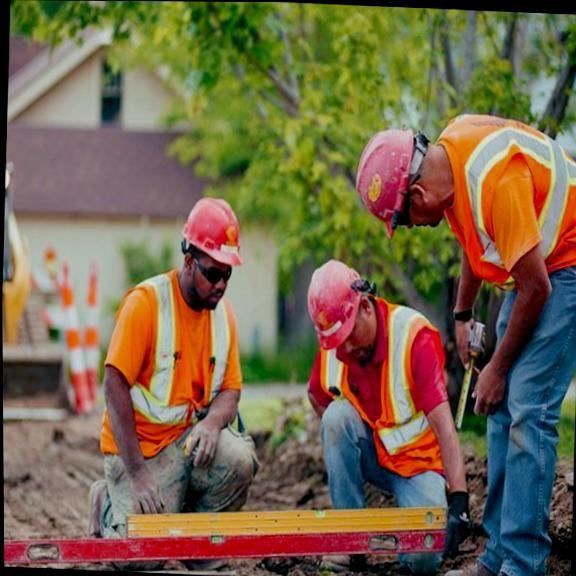safety_vest: (439, 110, 576, 296), (100, 287, 238, 465), (312, 313, 439, 483)
